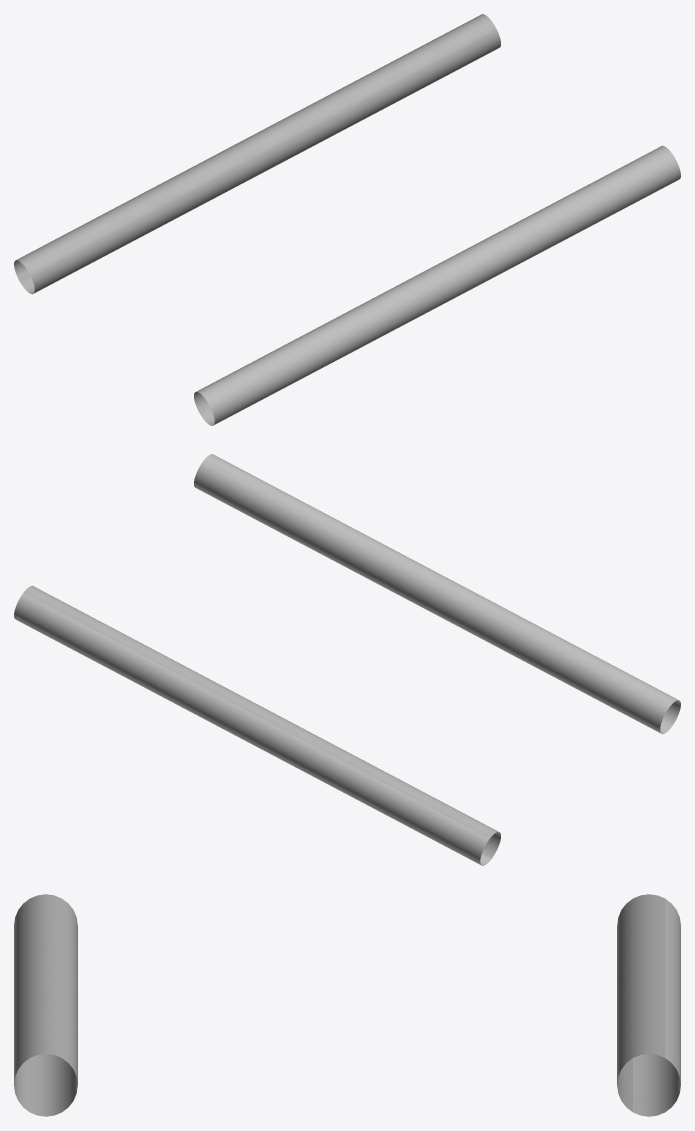
The model's file is mst110cr-vessel_rod.dae.
3 renders of one model, top to bottom at view 1: azimuth 30°, elevation 25°; view 2: azimuth 150°, elevation 25°; view 3: azimuth 270°, elevation 25°, orthographic. The views are drawn at different scales.
Parts seen in each view (by area): view 1: mst110cr-rod; view 2: mst110cr-rod; view 3: mst110cr-rod.
Part boxes in pixels (x1,y1,x2,y2): mst110cr-rod: [14, 14, 680, 425]; mst110cr-rod: [14, 454, 680, 865]; mst110cr-rod: [14, 894, 680, 1116].
Bounding box in the file's own units: 1.04 × 0.752 × 0.3455.
1 material, 1 textured.
